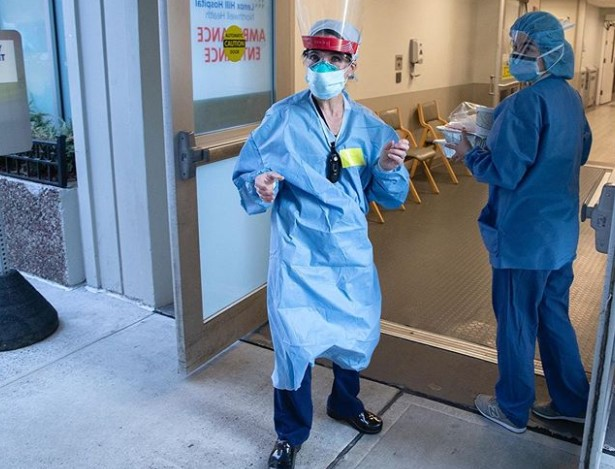face_with_mask: (297, 16, 359, 103), (506, 11, 577, 85)
